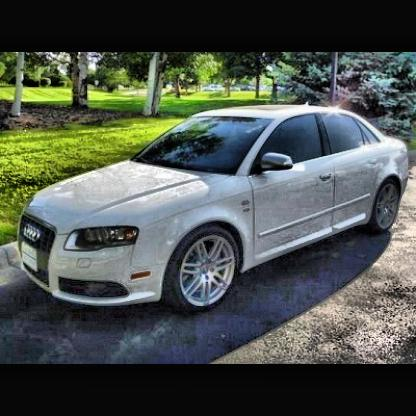Audi S4 Sedan 2007: (8, 105, 410, 324)
